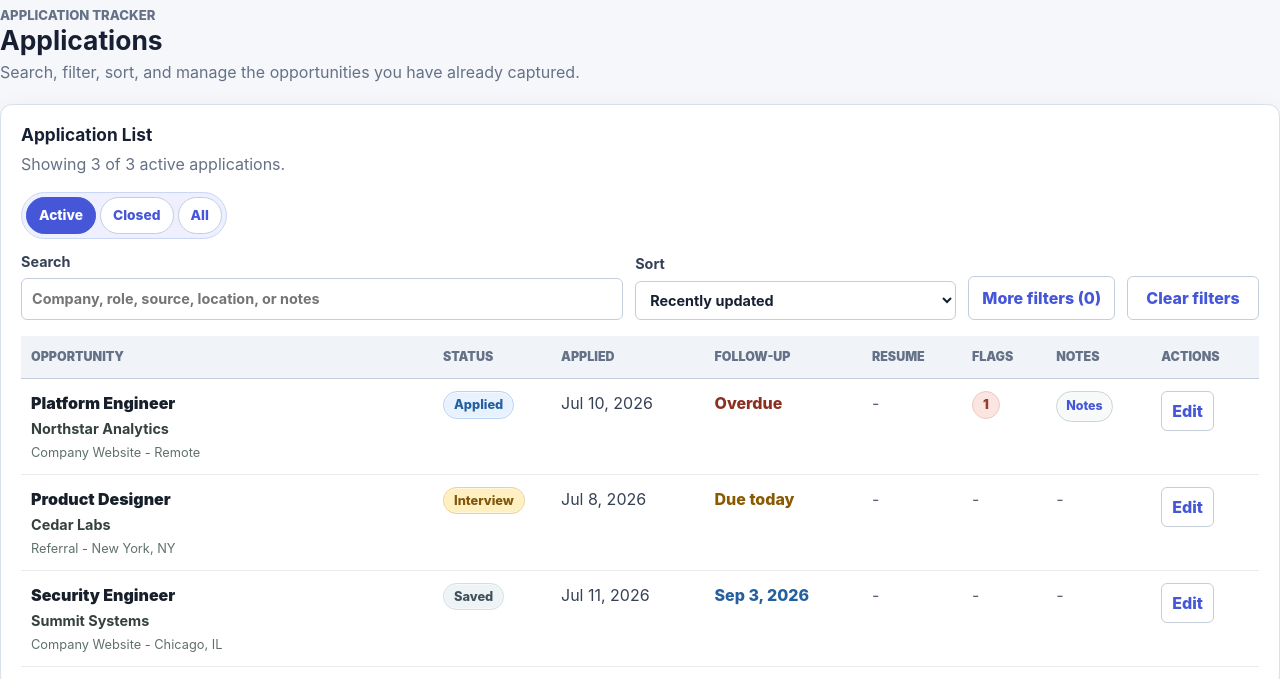
it: ApplicationsPage › switches between Active, Closed, and All application views
The image size is (1280, 679).
Expected: the text "Harbor Works" is not shown
Click the button "Closed" at (137, 215), box [100,197,174,234]
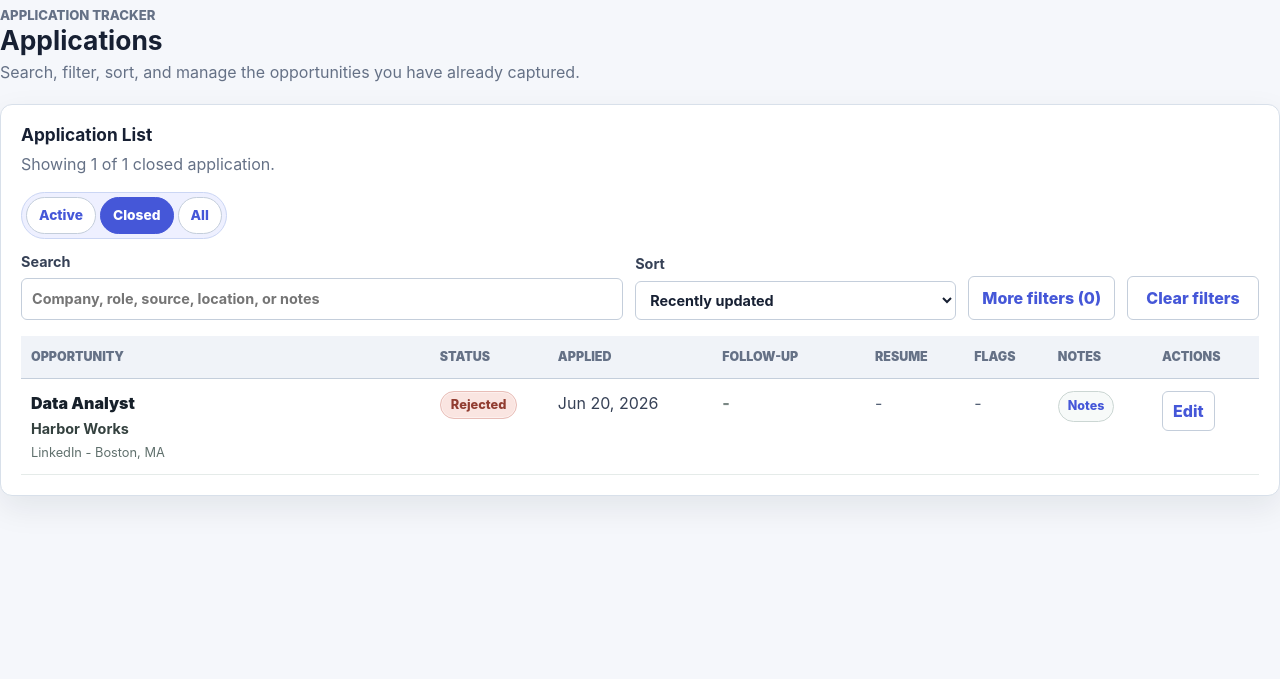
Result: the text "Harbor Works" is shown at [31,420,129,438]
Result: the text "Northstar Analytics" is gone
Click the button "All" at (200, 215), box [178,197,222,234]
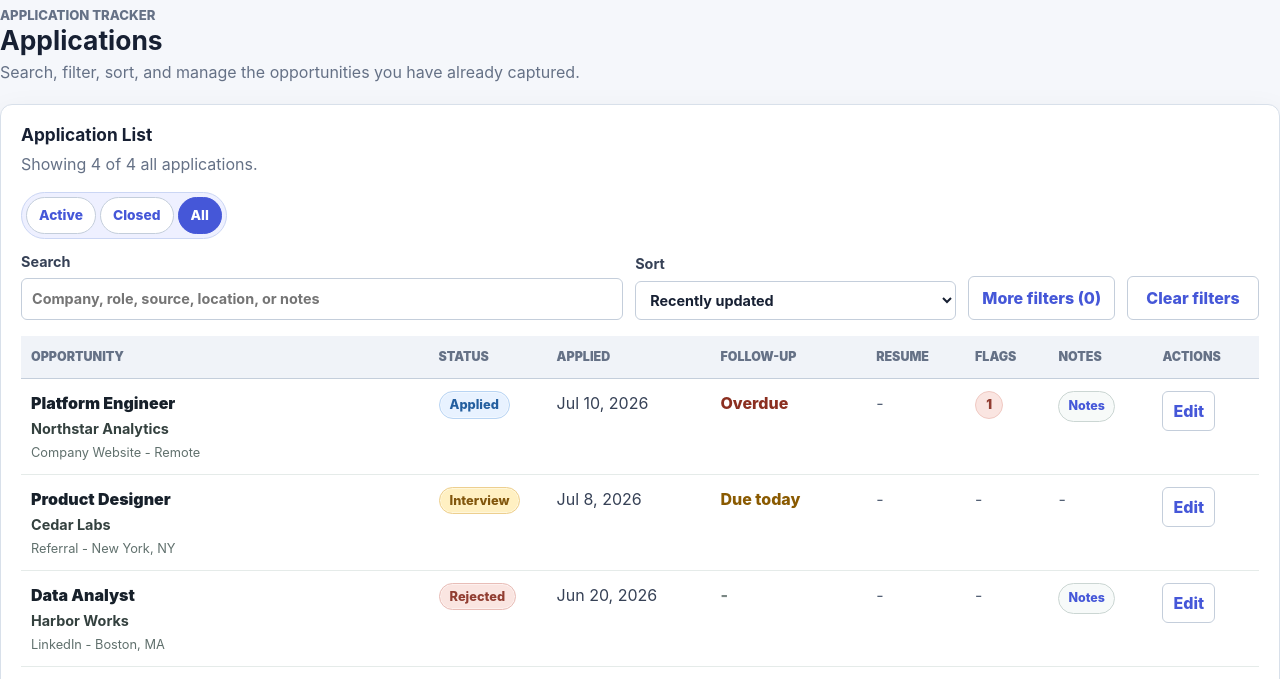
Result: the text "Harbor Works" is shown at [31,612,129,629]
Result: the text "Northstar Analytics" is shown at [31,420,169,438]
